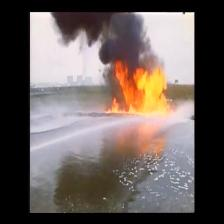fire: (106, 60, 169, 115)
